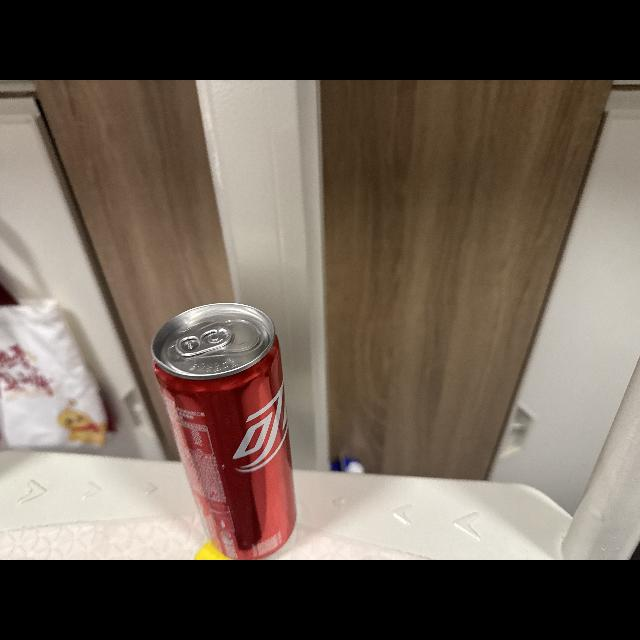Cola: (147, 296, 307, 560)
